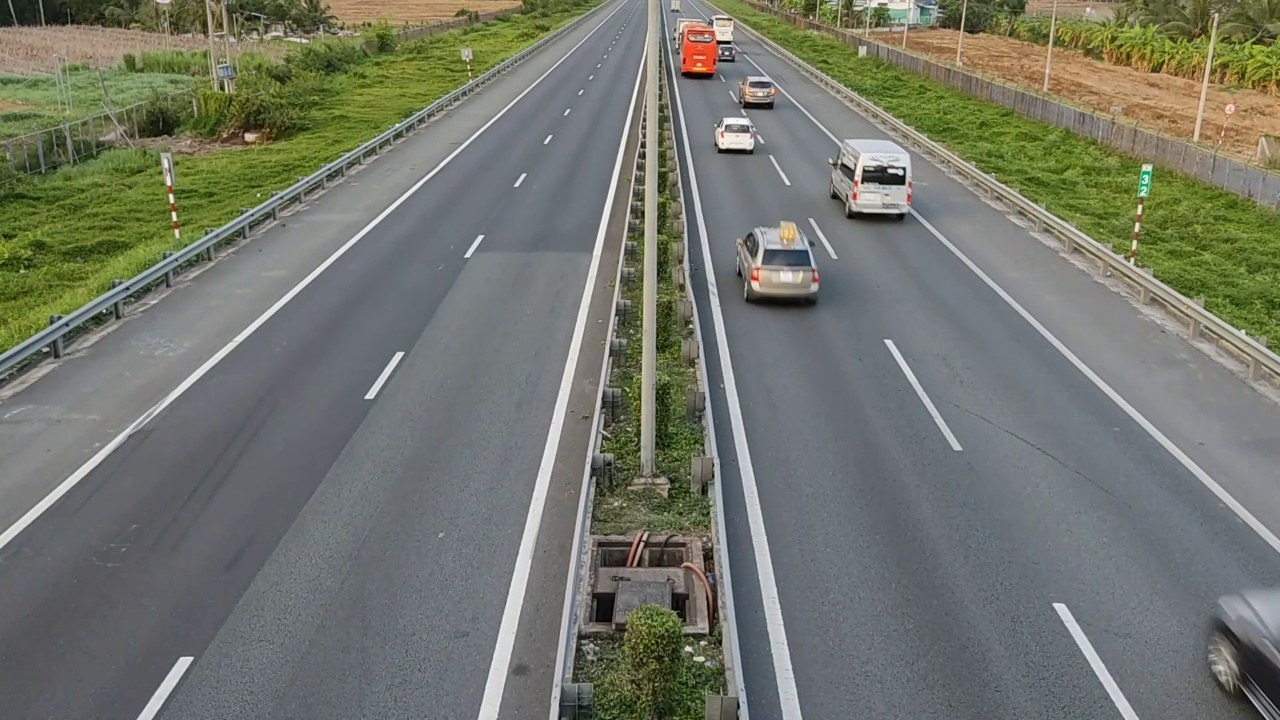car: (1204, 583, 1280, 718), (735, 221, 821, 304), (827, 138, 913, 220), (713, 116, 757, 153), (739, 76, 777, 108)
